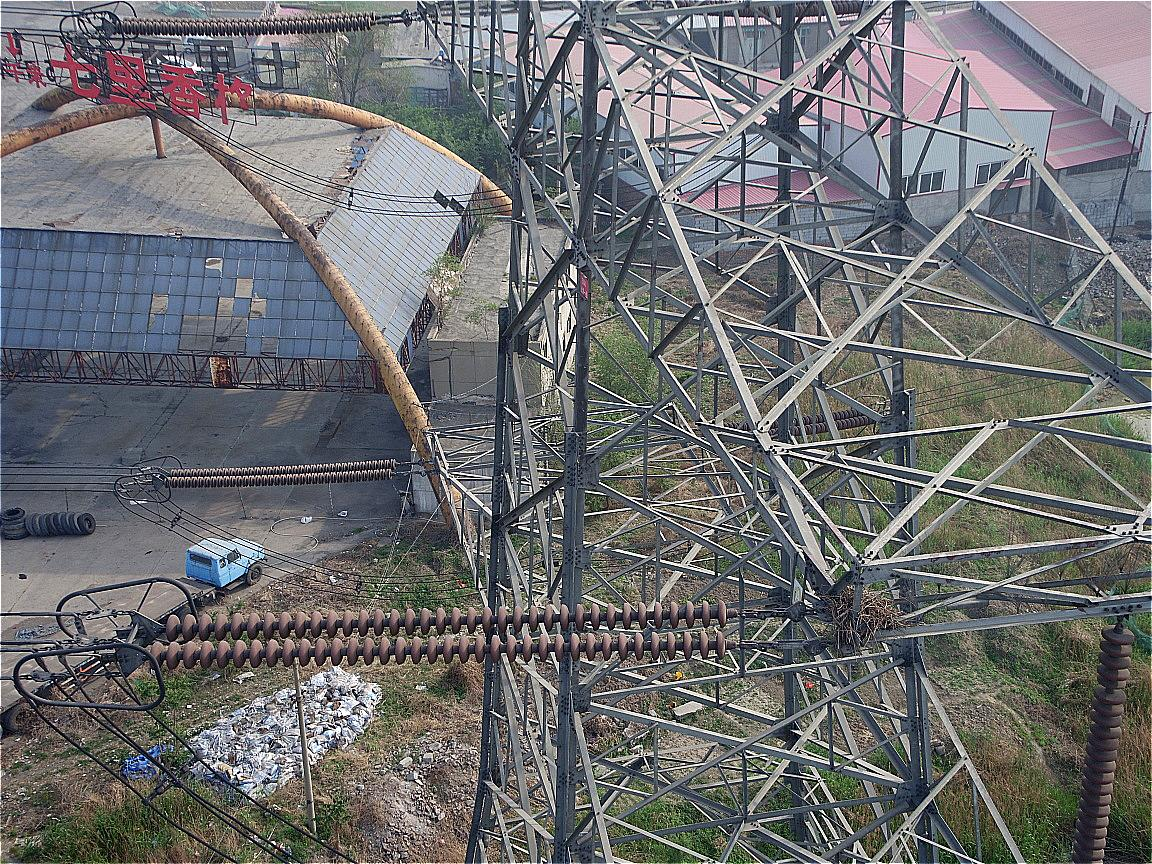insultor1: (149, 601, 729, 669), (1071, 626, 1136, 863)
insultor2: (116, 9, 377, 35), (163, 459, 399, 487)
